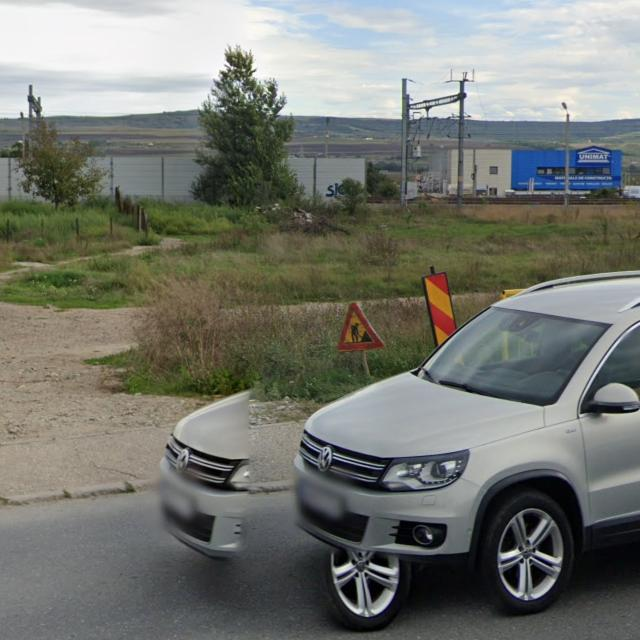warn_construction: (338, 302, 386, 351)
